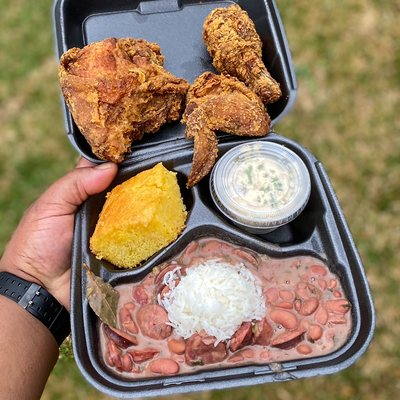sushi: (205, 139, 313, 232)
